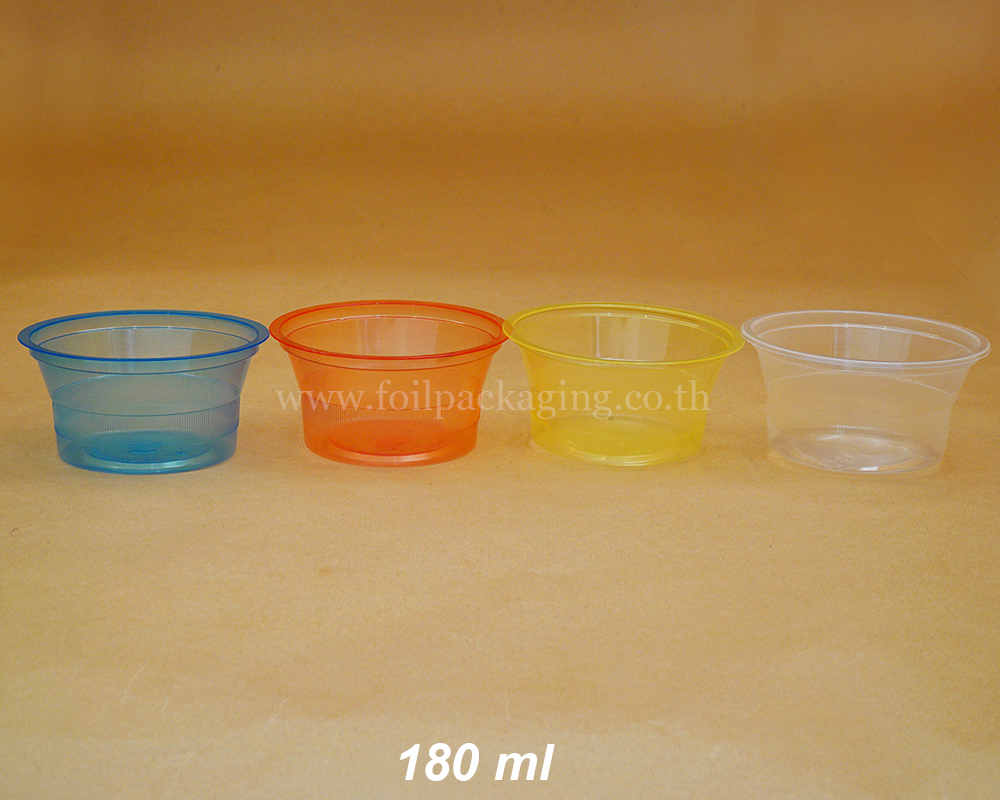plastic_glass: (739, 299, 998, 487), (16, 306, 272, 485), (500, 295, 746, 475), (269, 295, 511, 471)
